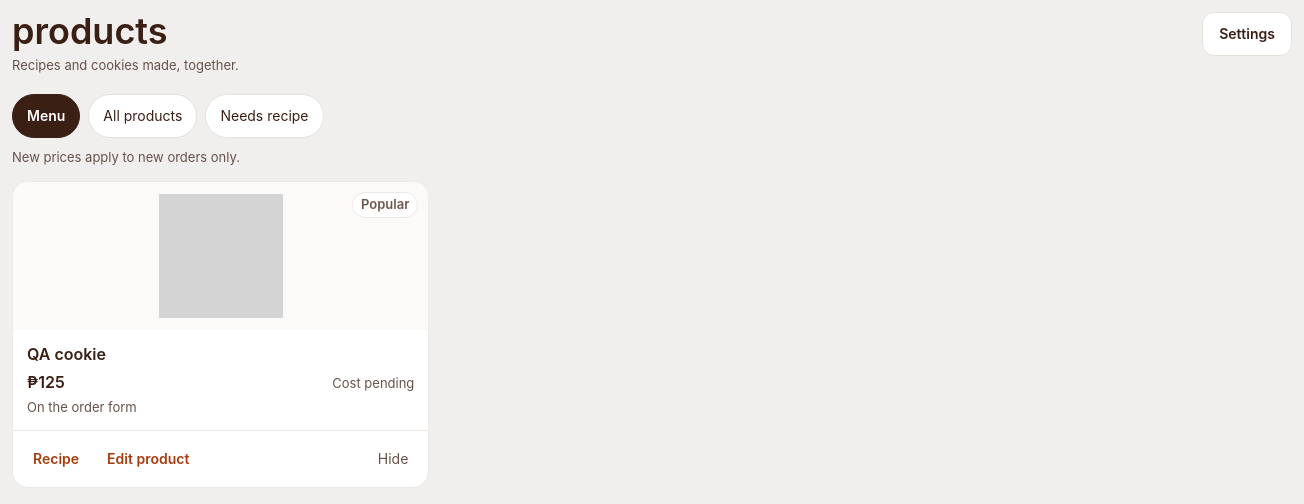
Scenario: product-centered Make library › shows an item sold by the piece with no baked count and no recipe nag, and keeps its Recipe link
The width and height of the screenshot is (1304, 504).
Expected: the button "Recipe" is shown, [21,437,91,481]
Click the button "Needs recipe".
click(264, 116)  # box [205,94,324,138]
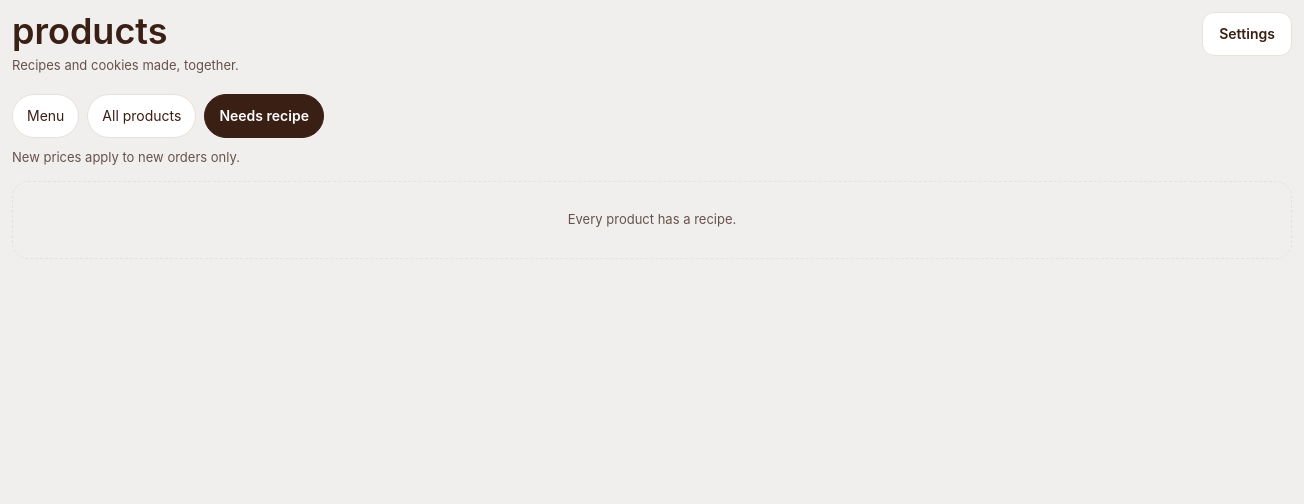
Expected: the heading "QA cookie" is gone
